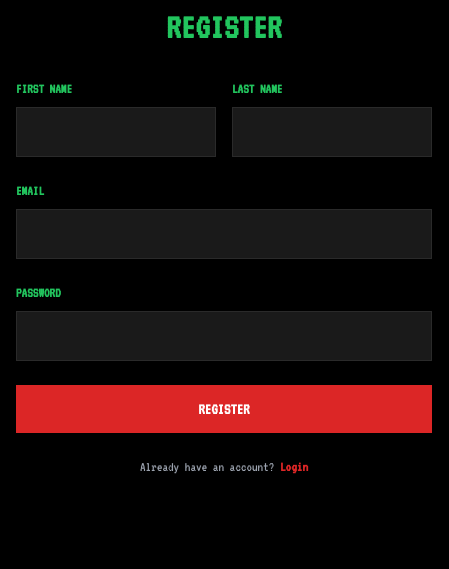
Scenario: RegisterPage › shows error for invalid email
In the field labelled "FIRST NAME": point(116, 132) [16, 107, 216, 157], type "John"
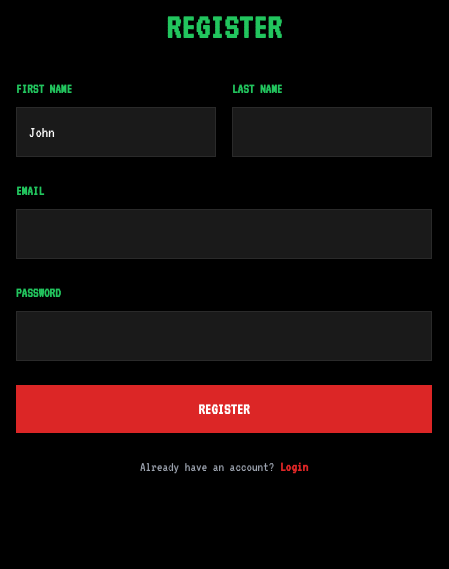
In the field labelled "LAST NAME": point(332, 132) [232, 107, 432, 157], type "Doe"
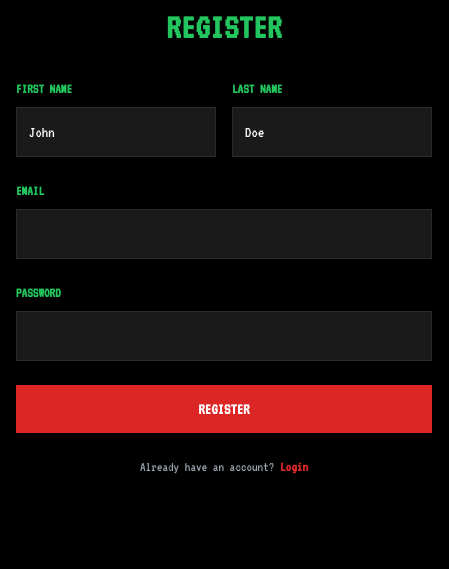
In the field labelled "EMAIL": point(224, 234) [16, 209, 432, 259], type "test@example"
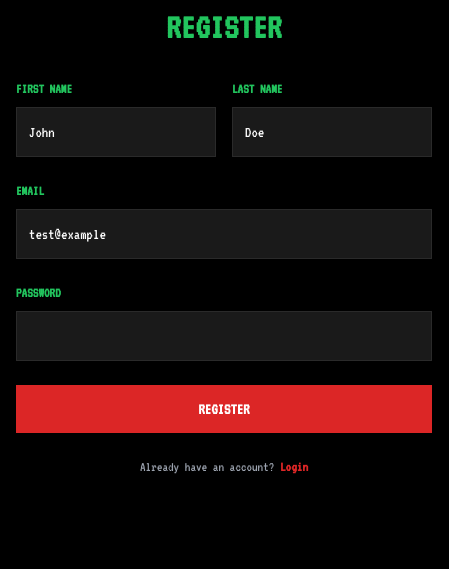
In the password field labelled "PASSWORD": point(224, 336) [16, 311, 432, 361], type "Password123!"
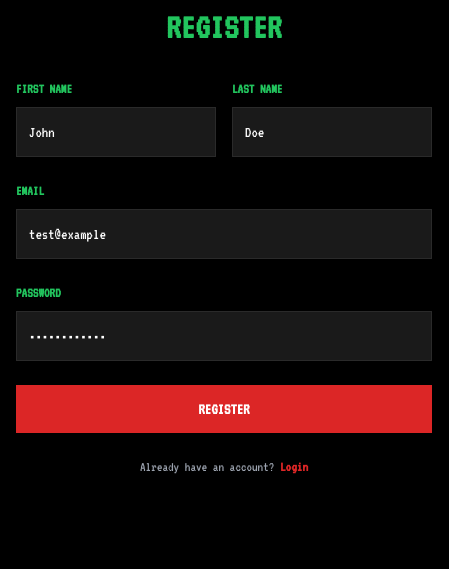
Click the button "REGISTER": point(224, 409) [16, 385, 432, 433]
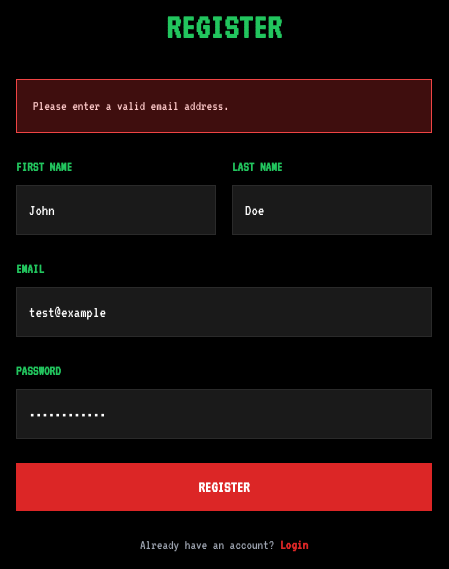
Expected: the text "Please enter a valid email address." is shown, [16, 79, 432, 133]
